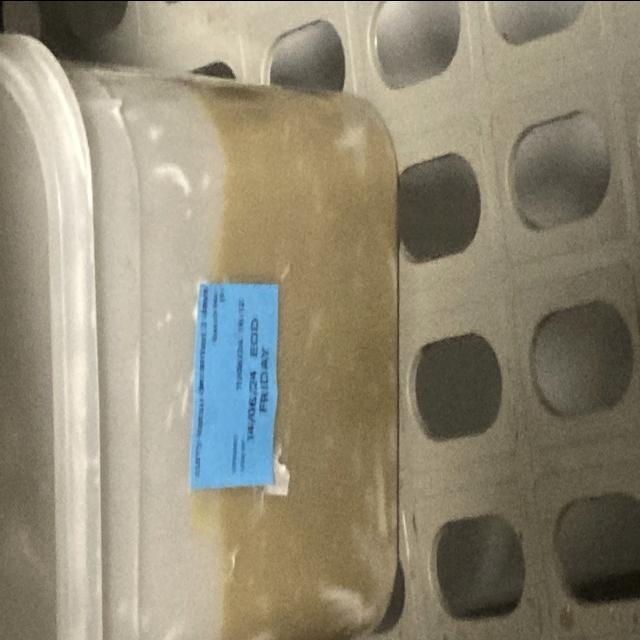product-labels: (189, 282, 279, 489)
